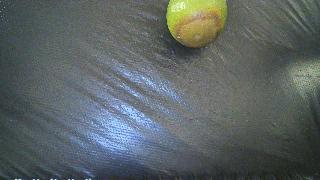DESECHO: (166, 0, 227, 48)
